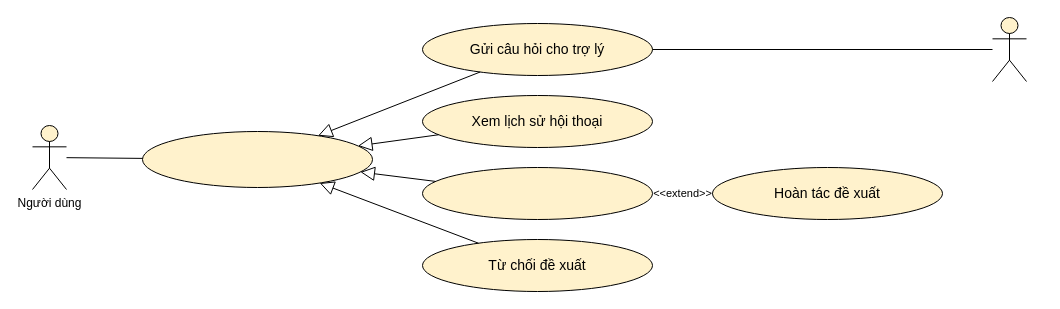
Some shapes in this 1060 by 309 pixel diagram are drawn without their labels. The shapes that lost their labels are listed below. From the top down, each one's centre as x and y in pixels, then its label:
At point (1009, 49): "Dịch vụ LLM".
At point (257, 159): "Trò chuyện với trợ lý AI".
At point (537, 193): "Áp dụng đề xuất".
